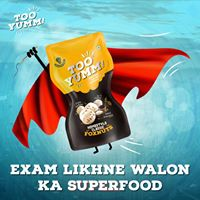plastic: (60, 33, 111, 145)
tooyumm: (64, 57, 106, 86), (5, 9, 47, 28)
wrapper: (46, 48, 124, 137)
